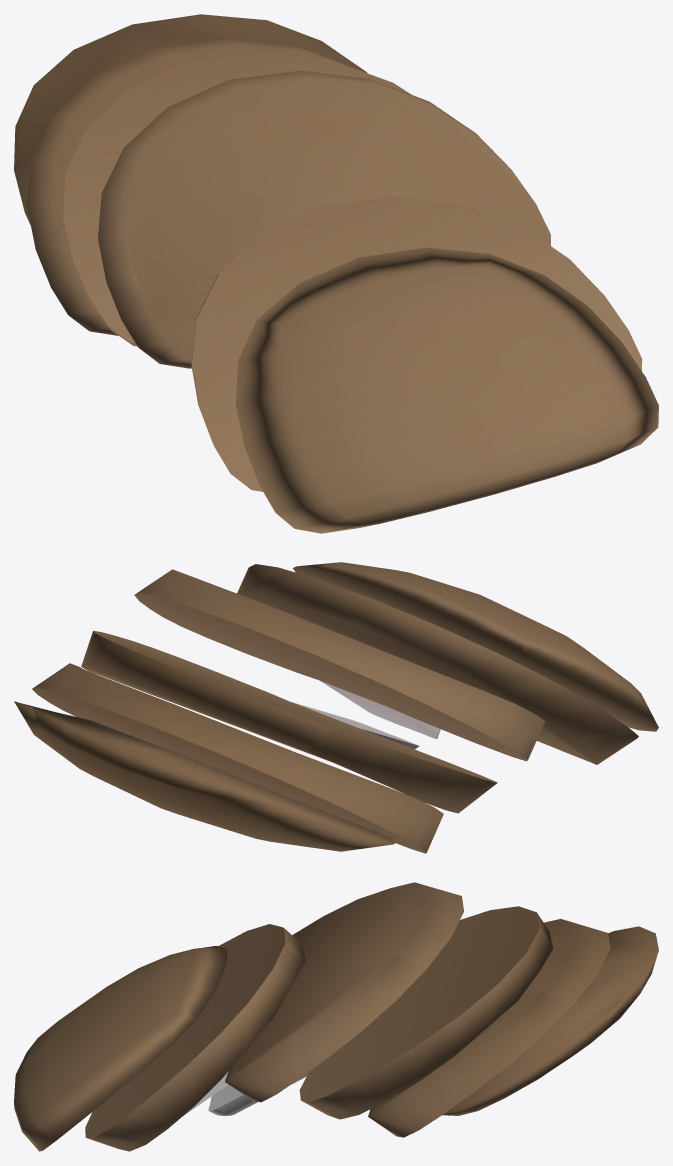
Rendered from MushroomChopped.glb.
The picture shows the model from 3 angles, top to bottom: view 1: azimuth 30°, elevation 25°; view 2: azimuth 150°, elevation 25°; view 3: azimuth 270°, elevation 25°; orthographic projection. The views are drawn at different scales.
Visible parts, largest first — view 1: MushroomChopped; view 2: MushroomChopped; view 3: MushroomChopped.
Boxes of the visible parts, x1=… form: MushroomChopped: x1=14, y1=14, x2=658, y2=533; MushroomChopped: x1=14, y1=562, x2=658, y2=853; MushroomChopped: x1=14, y1=882, x2=658, y2=1151.
Size of the model in its own units: 0.3044 by 0.1726 by 0.4883.
1 material, 1 textured.
